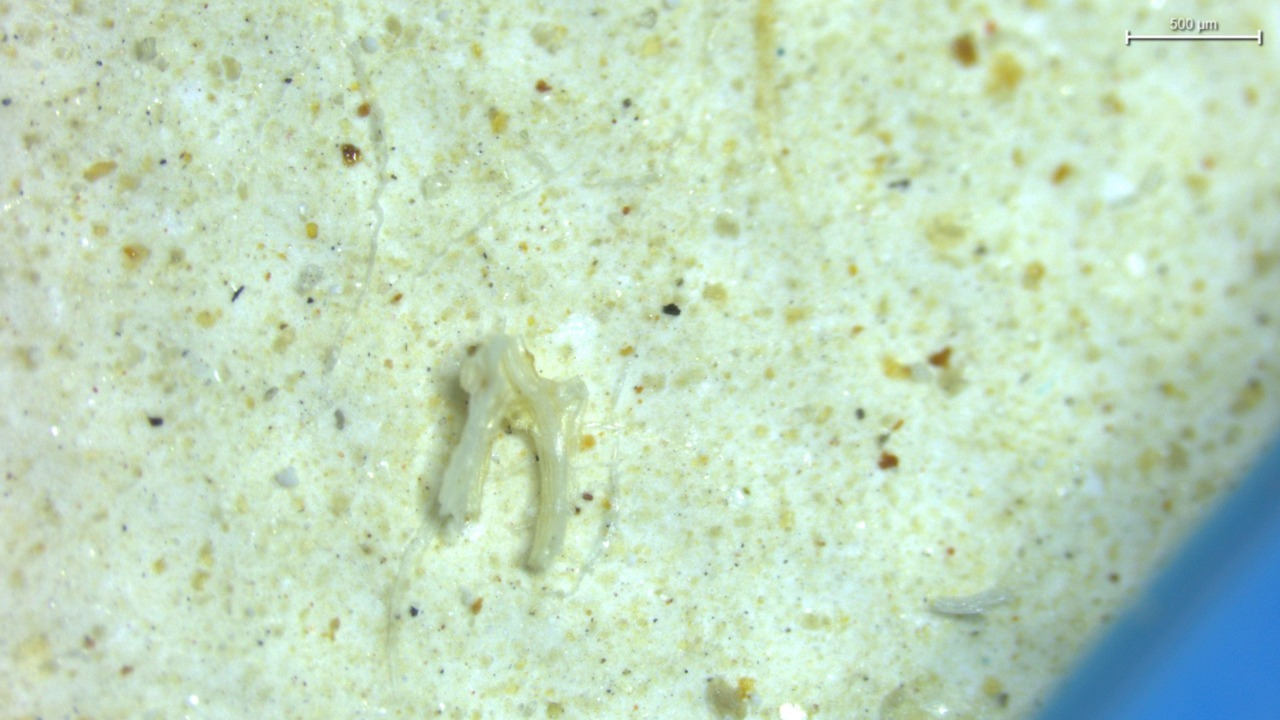microplastic_fragment: (438, 335, 587, 570)
